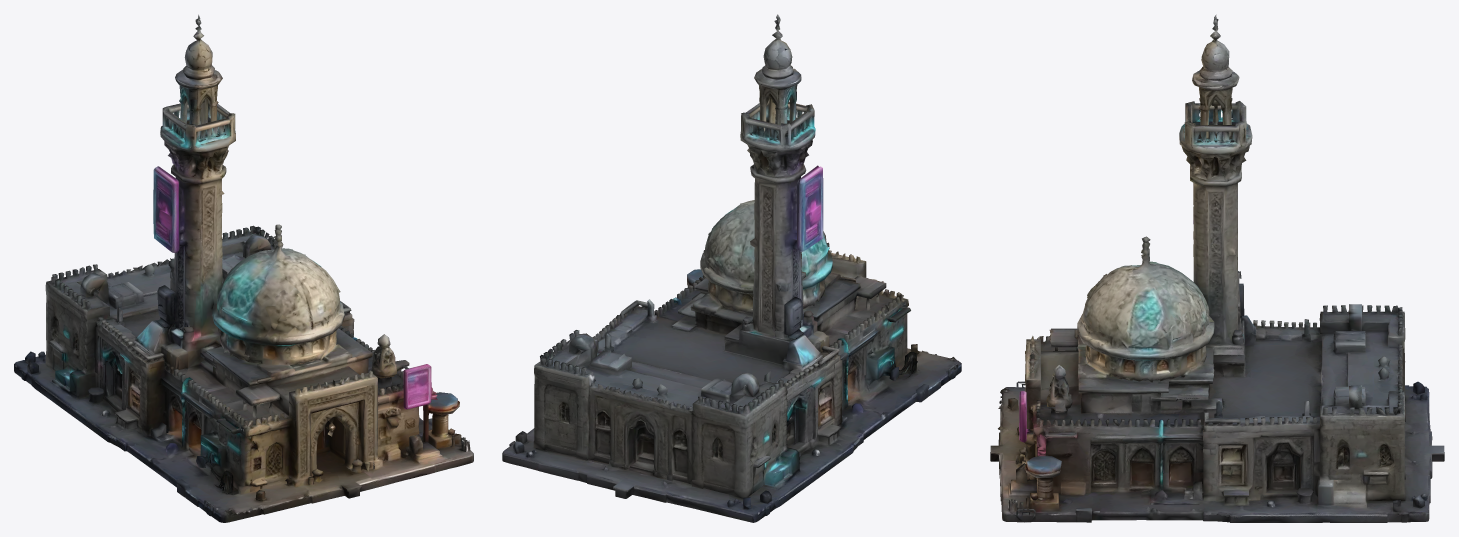
File: lm_cairo.glb
3 views of the same model, side by side, from view 1: azimuth 30°, elevation 25°; view 2: azimuth 150°, elevation 25°; view 3: azimuth 270°, elevation 25° (orthographic). The views are drawn at different scales.
Parts seen in each view (by area): view 1: tripo_node_498302ee-657f-4896-afe5-0312a3eaee7b; view 2: tripo_node_498302ee-657f-4896-afe5-0312a3eaee7b; view 3: tripo_node_498302ee-657f-4896-afe5-0312a3eaee7b.
Part boxes in pixels (x1=…): tripo_node_498302ee-657f-4896-afe5-0312a3eaee7b: x1=14, y1=14, x2=473, y2=522; tripo_node_498302ee-657f-4896-afe5-0312a3eaee7b: x1=502, y1=14, x2=961, y2=522; tripo_node_498302ee-657f-4896-afe5-0312a3eaee7b: x1=990, y1=14, x2=1444, y2=522.
Size of the model in its own units: 0.6472 by 0.9831 by 0.9583.
Materials: 1 (1 with a texture image).
